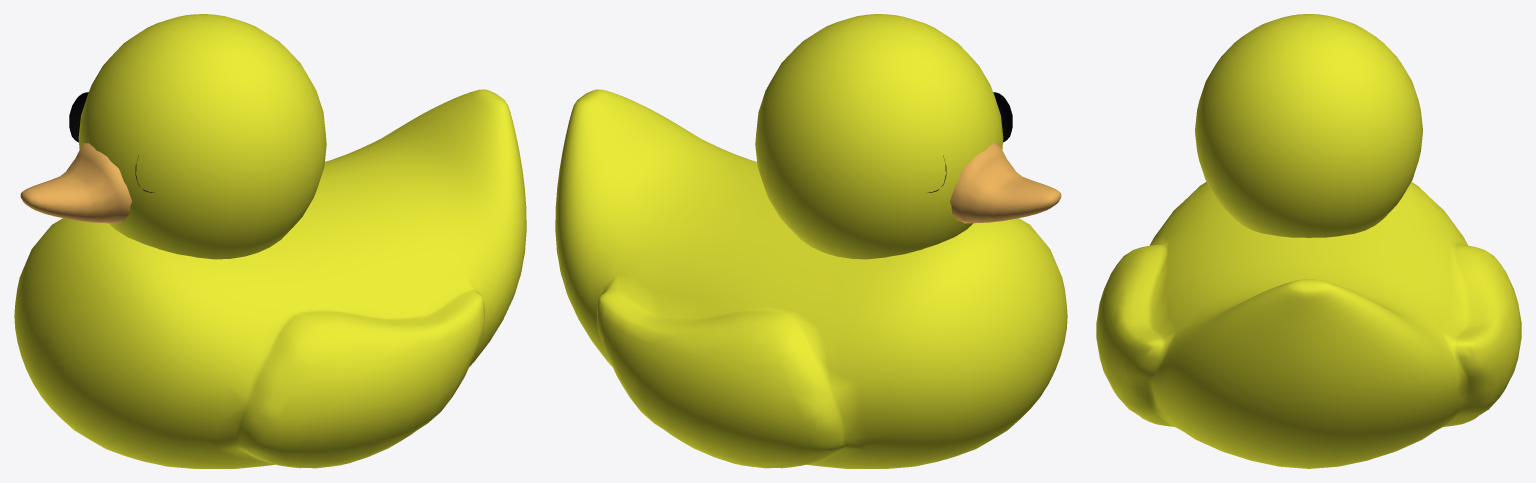
The model's file is rubber_duck.glb.
3 views of the same model, side by side, from view 1: azimuth 30°, elevation 25°; view 2: azimuth 150°, elevation 25°; view 3: azimuth 270°, elevation 25° (orthographic). The views are drawn at different scales.
Parts seen in each view (by area): view 1: Icosphere; view 2: Icosphere; view 3: Icosphere.
Boxes of the visible parts, x1,y1,x2,y2 form: Icosphere: (14, 14, 526, 468); Icosphere: (555, 14, 1067, 468); Icosphere: (1096, 14, 1521, 468).
Size of the model in its own units: 0.185 by 0.1557 by 0.1543.
